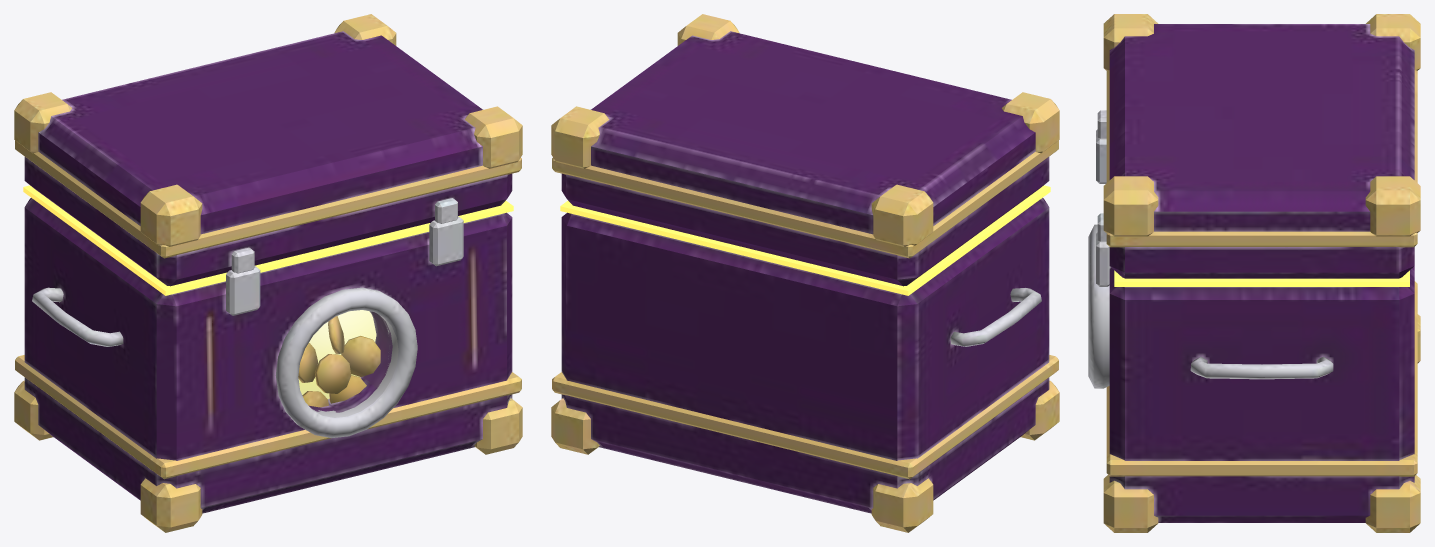
The model's file is crate.glb.
3 views of the same model, side by side, from view 1: azimuth 30°, elevation 25°; view 2: azimuth 150°, elevation 25°; view 3: azimuth 270°, elevation 25° (orthographic). The views are drawn at different scales.
Parts seen in each view (by area): view 1: mesh_scaled, mesh_lid; view 2: mesh_scaled, mesh_lid; view 3: mesh_scaled, mesh_lid.
Boxes of the visible parts, left/top/right/bottom form: mesh_scaled: left=14, top=185, right=522, bottom=532; mesh_lid: left=14, top=14, right=522, bottom=286; mesh_scaled: left=551, top=185, right=1059, bottom=532; mesh_lid: left=551, top=14, right=1059, bottom=286; mesh_scaled: left=1088, top=129, right=1420, bottom=532; mesh_lid: left=1097, top=14, right=1420, bottom=278.
Size of the model in its own units: 1.42 by 1.05 by 0.9265.
Materials: 4 (1 with a texture image).
